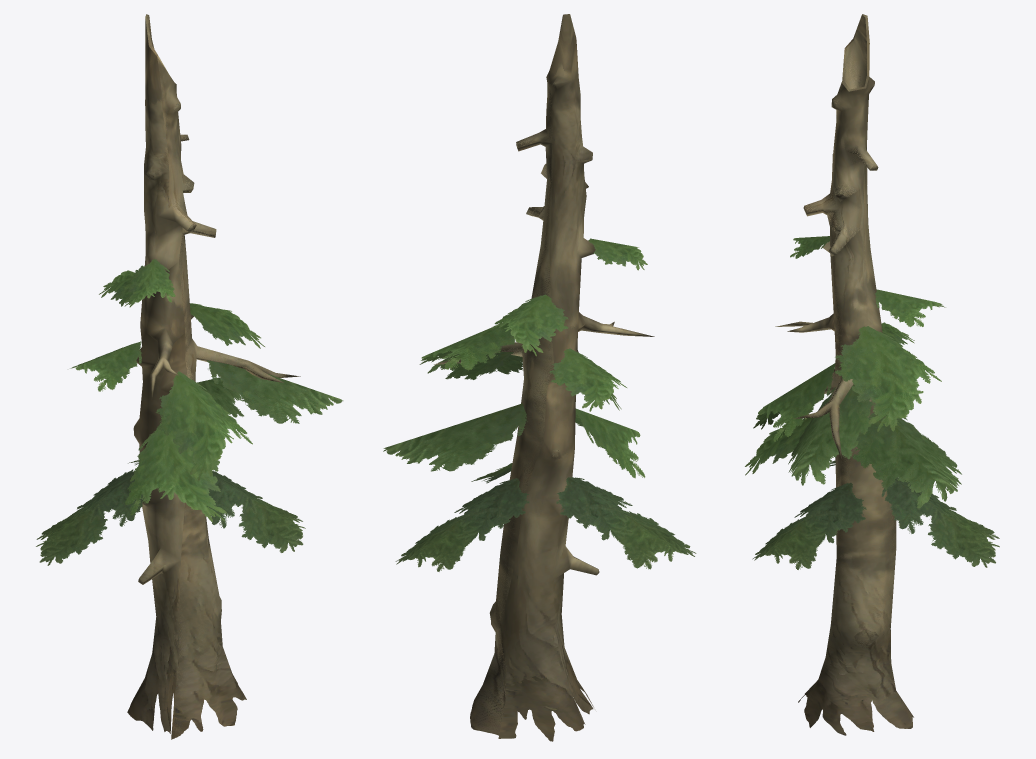
File: tree_pine_03b.fbx
3 views of the same model, side by side, from view 1: azimuth 30°, elevation 25°; view 2: azimuth 150°, elevation 25°; view 3: azimuth 270°, elevation 25° (orthographic). The views are drawn at different scales.
Parts seen in each view (by area): view 1: tree_pine_03b; view 2: tree_pine_03b; view 3: tree_pine_03b.
Part boxes in pixels (left/top/right/bottom): tree_pine_03b: left=36, top=14, right=343, bottom=739; tree_pine_03b: left=383, top=14, right=696, bottom=741; tree_pine_03b: left=745, top=14, right=999, bottom=735.
Bounding box in the file's own units: 15752 × 36121 × 13630.
